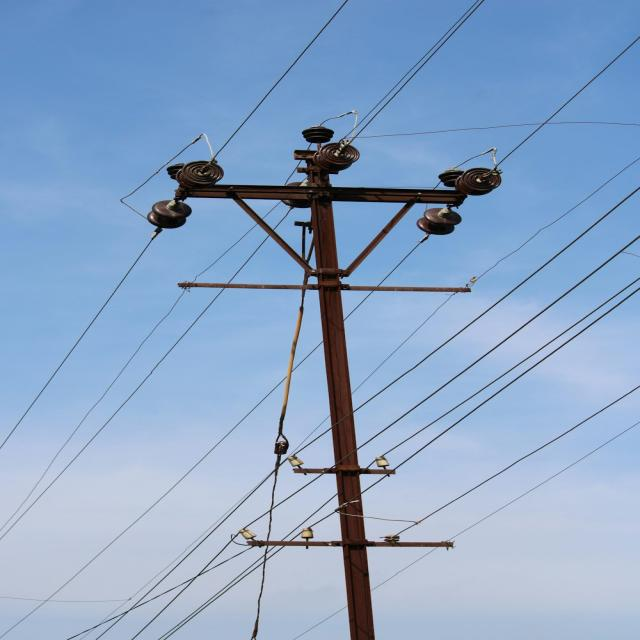transmission tower: (85, 116, 577, 555)
